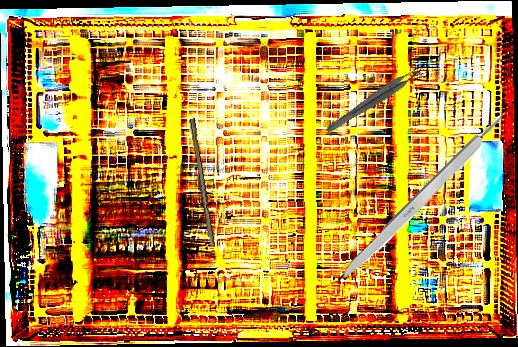Scalpel Handle: (332, 110, 512, 290), (185, 118, 218, 247)
Tissue Forceps: (324, 63, 424, 140)
